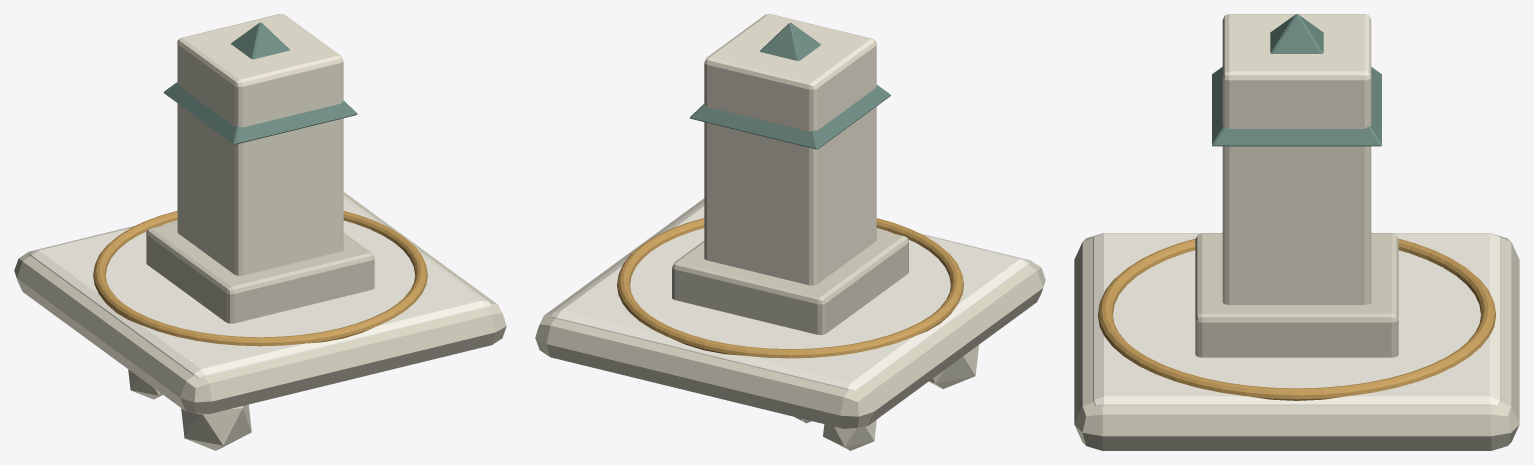
File: island_qa.glb
3 views of the same model, side by side, from view 1: azimuth 30°, elevation 25°; view 2: azimuth 150°, elevation 25°; view 3: azimuth 270°, elevation 25° (orthographic). The views are drawn at different scales.
Parts seen in each view (by area): view 1: island_qa; view 2: island_qa; view 3: island_qa.
Part boxes in pixels (x1,y1,x2,y2): island_qa: [14, 14, 506, 450]; island_qa: [535, 14, 1045, 450]; island_qa: [1074, 14, 1519, 450].
Bounding box in the file's own units: 2.04 × 2.25 × 2.04.
